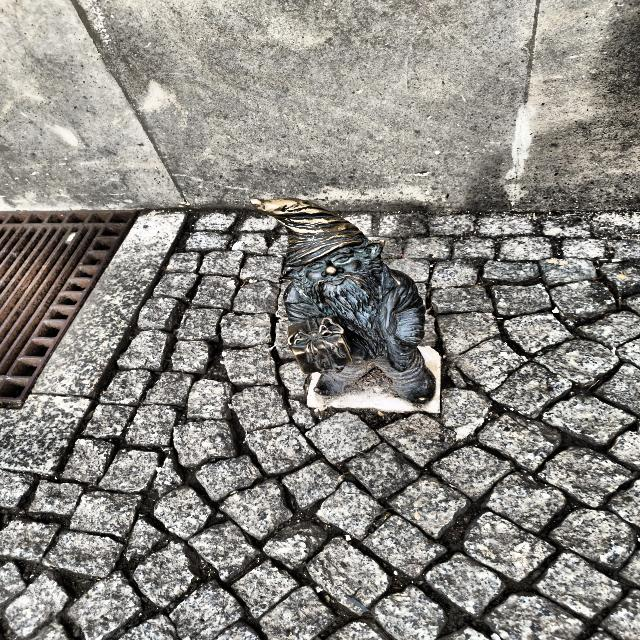Suvenirek: (252, 198, 438, 404)
